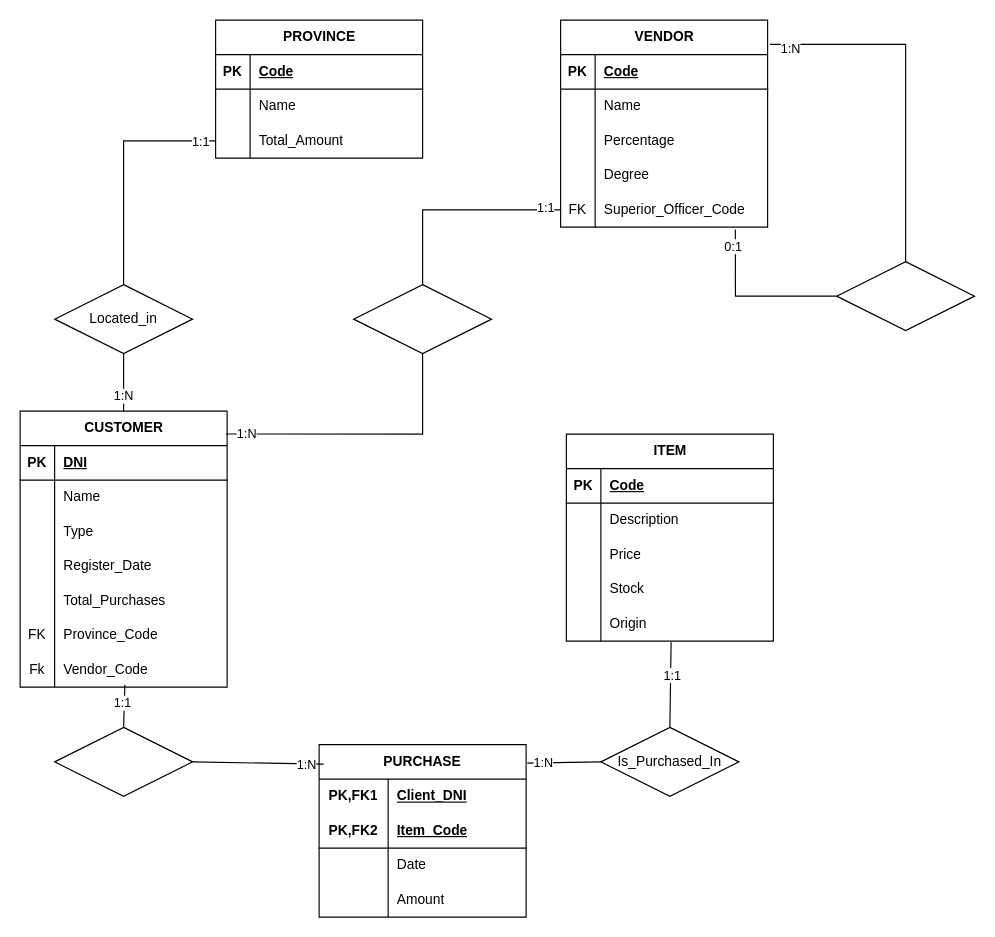
Some shapes in this 995 by 937 pixel diagram are drawn without their labels. Here are the shapes that lost their labels. From the top down, the centre of each, then its label:
the point at 905,295: Reports_to
the point at 422,318: Serves
the point at 123,761: Makes
